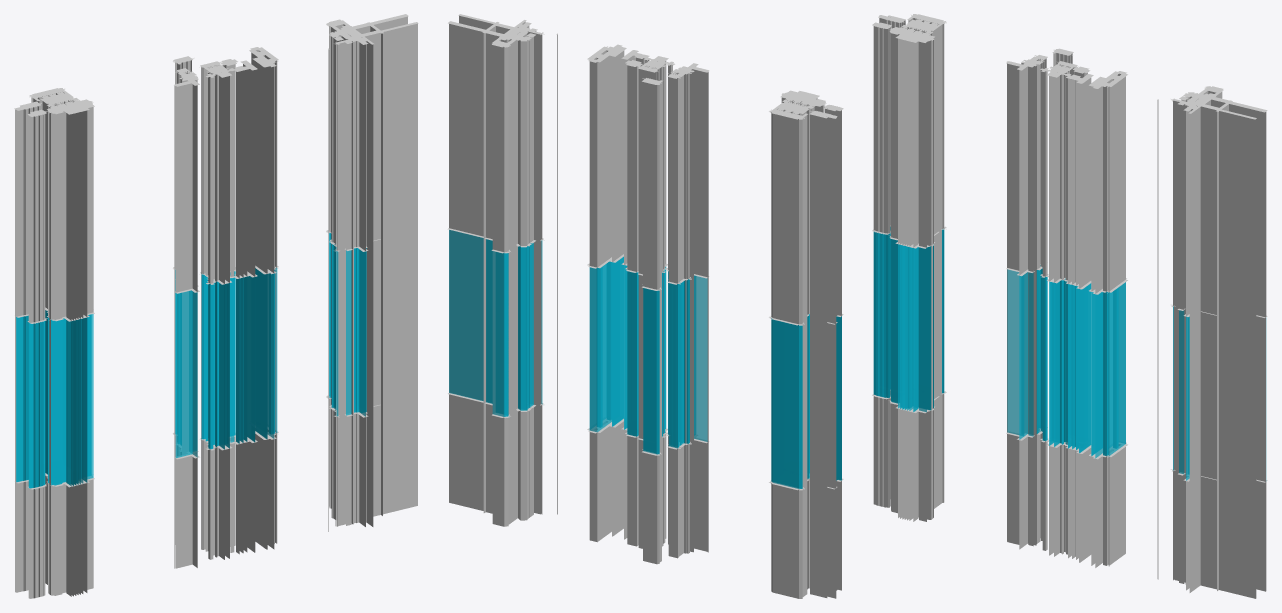
The picture shows the model from 3 angles, left to right: view 1: azimuth 30°, elevation 25°; view 2: azimuth 150°, elevation 25°; view 3: azimuth 330°, elevation 25°; orthographic projection.
Parts seen in each view (by area): view 1: walls, windows; view 2: walls, windows, roof; view 3: walls, windows.
Boxes of the visible parts, x1=… form: walls: x1=15, y1=14, x2=417, y2=598; windows: x1=16, y1=233, x2=366, y2=488; walls: x1=447, y1=15, x2=843, y2=598; windows: x1=449, y1=229, x2=841, y2=489; roof: x1=449, y1=14, x2=836, y2=118; walls: x1=872, y1=14, x2=1267, y2=598; windows: x1=873, y1=227, x2=1266, y2=481.
Bounding box in the file's own units: 2.97 × 3.5 × 0.449.
